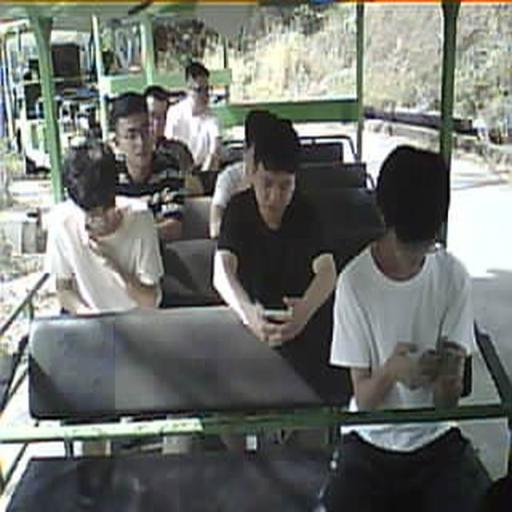persona: (324, 143, 494, 511), (211, 114, 339, 400), (44, 137, 166, 316), (106, 91, 202, 240), (210, 111, 268, 236), (164, 62, 224, 172), (144, 87, 203, 194)
